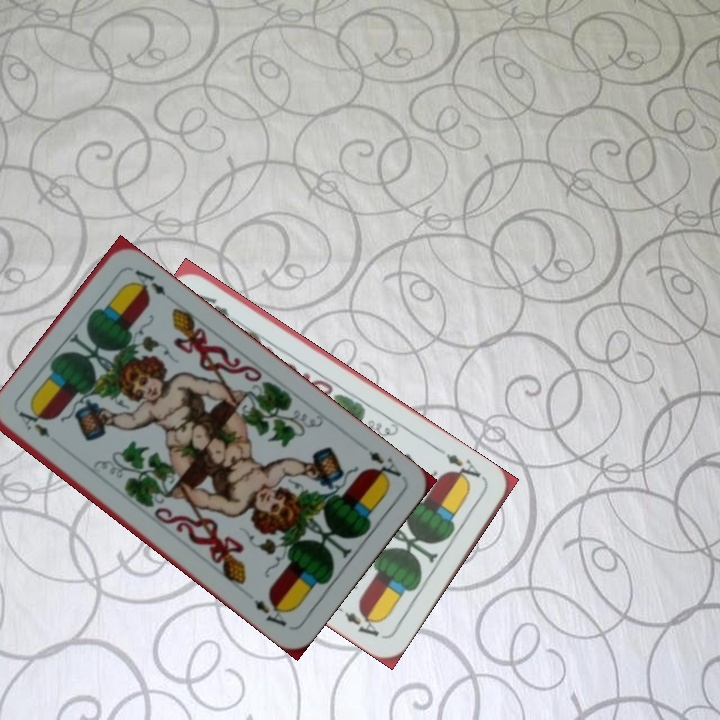EA: (442, 449, 488, 488), (364, 446, 405, 488), (13, 407, 53, 440)
